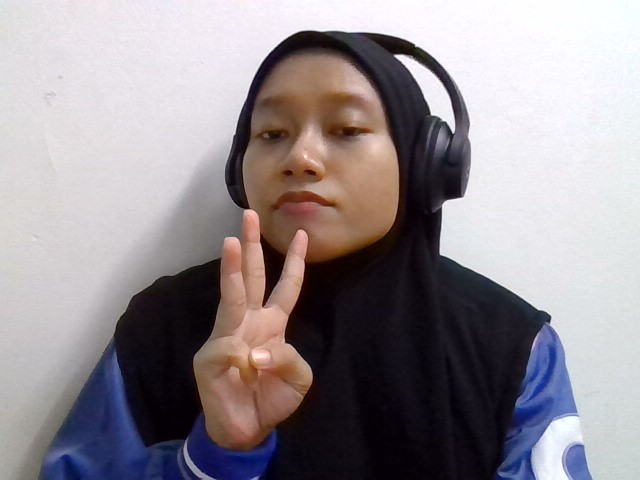Air: (192, 184, 341, 442)
